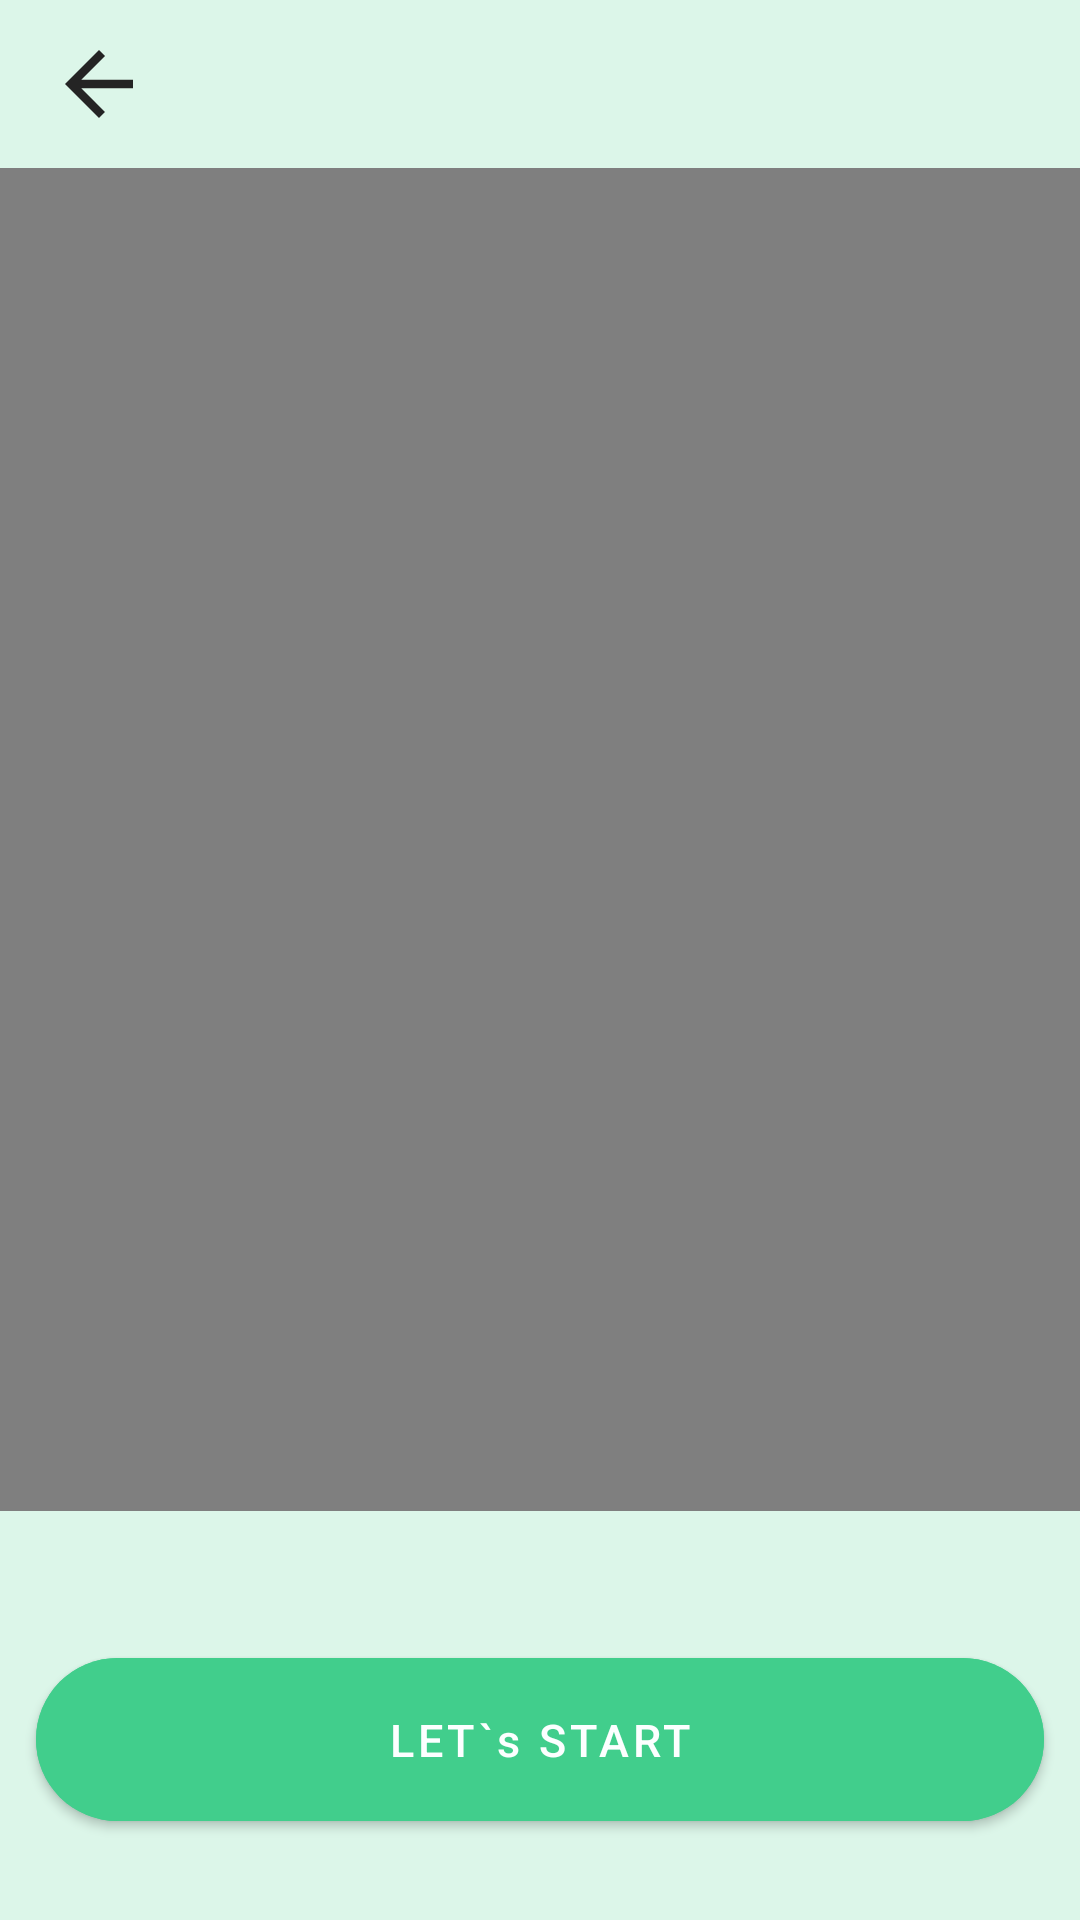

Screen size 1080px×1920px. Icon name, then its center in pixels as (x,y):
arrow back: (99,84)
